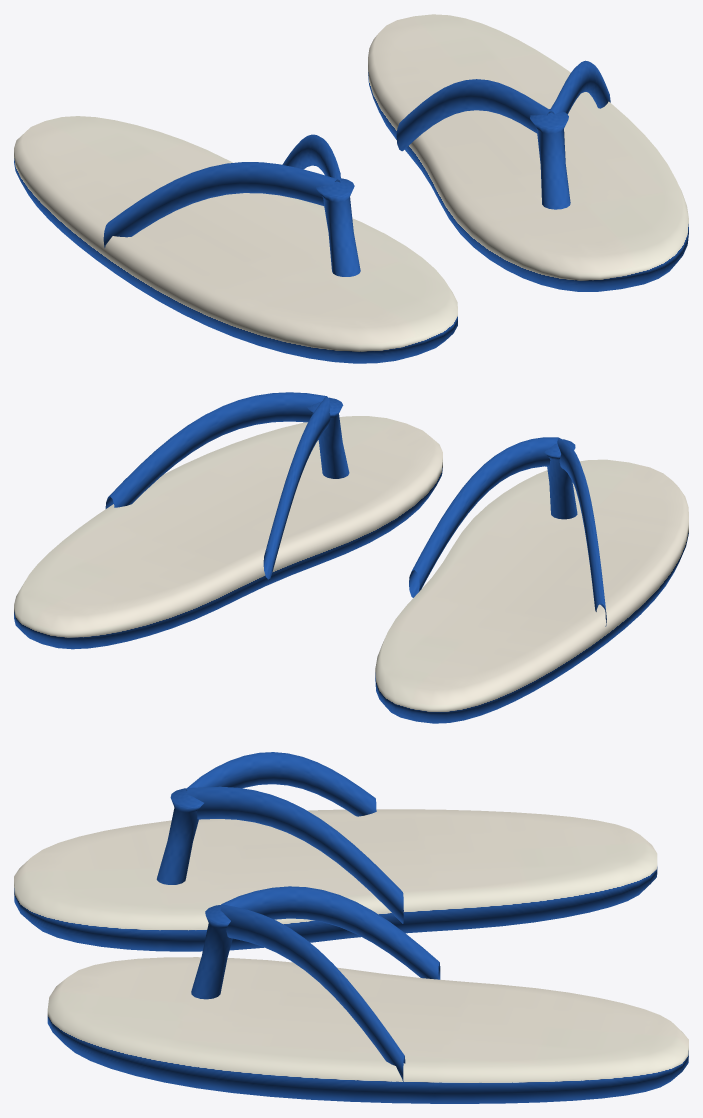
The model's file is selipar_jepun.glb.
3 renders of one model, top to bottom at view 1: azimuth 30°, elevation 25°; view 2: azimuth 150°, elevation 25°; view 3: azimuth 270°, elevation 25°, orthographic. The views are drawn at different scales.
Visible parts, largest first — view 1: b_selipar_jepun; view 2: b_selipar_jepun; view 3: b_selipar_jepun.
Boxes of the visible parts, box(x1,y1,x2,y2) form: b_selipar_jepun: box(14, 14, 688, 363); b_selipar_jepun: box(14, 392, 688, 723); b_selipar_jepun: box(14, 752, 688, 1103).
Size of the model in its own units: 0.2275 by 0.0551 by 0.2474.
Materials: 1 (1 with a texture image).
